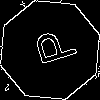P: (25, 25, 78, 70)
